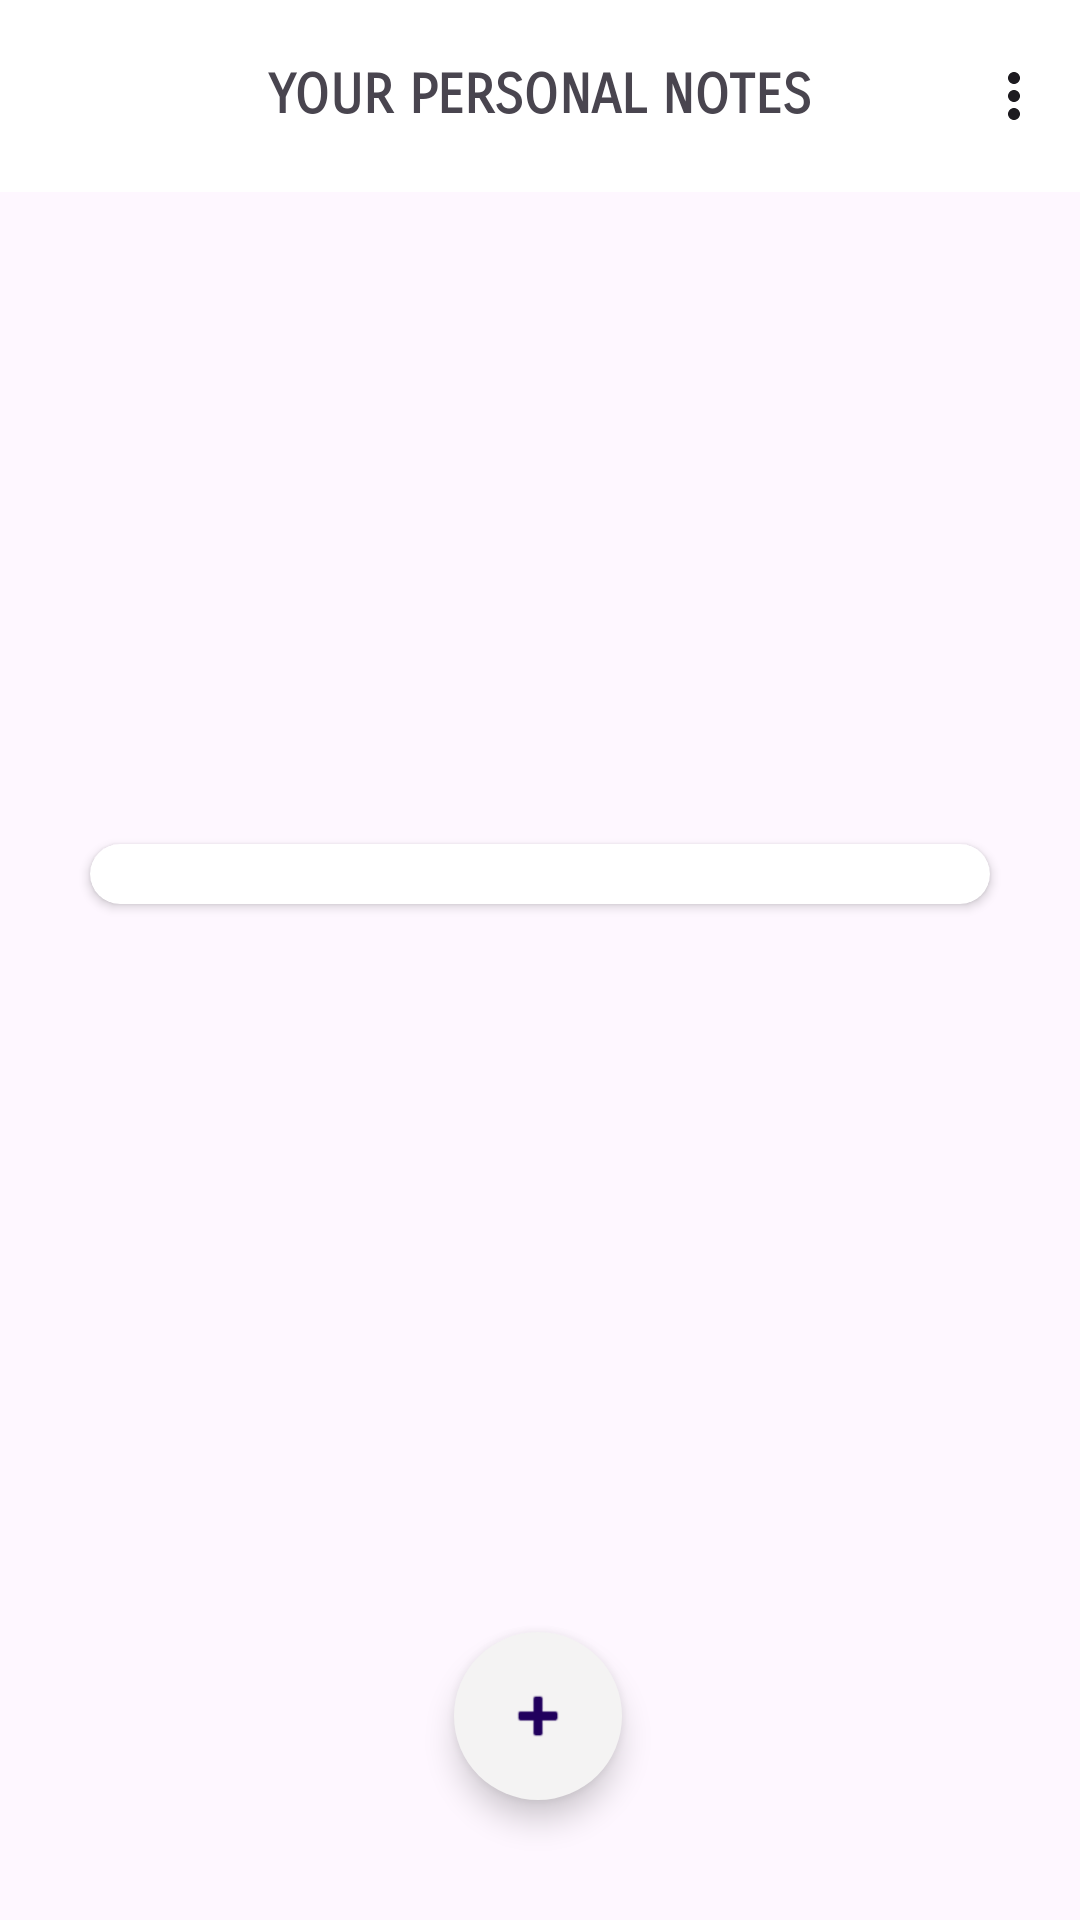

Screen size 1080px x 1920px. Icon name, then its box in pixels as [x1,y1,x2,y2]:
add: [454,1632,622,1800]
